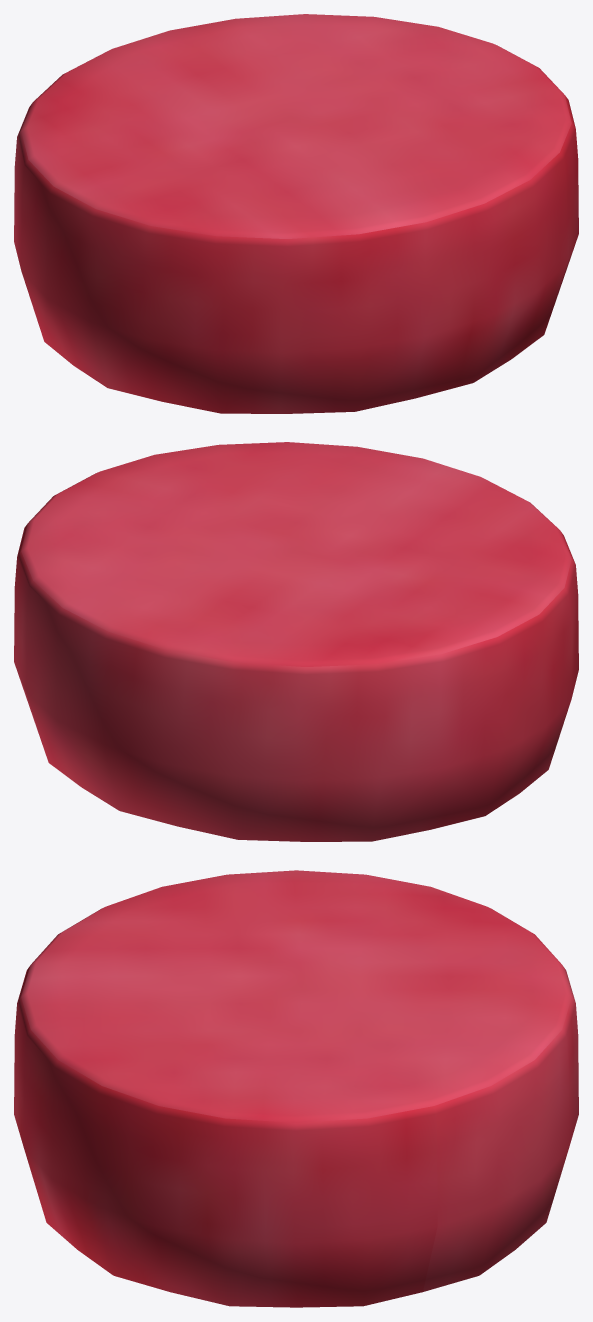
The model's file is bouton.fbx.
The picture shows the model from 3 angles, top to bottom: view 1: azimuth 30°, elevation 25°; view 2: azimuth 150°, elevation 25°; view 3: azimuth 270°, elevation 25°; orthographic projection. The views are drawn at different scales.
Visible parts, largest first — view 1: polySurface3; view 2: polySurface3; view 3: polySurface3.
Part boxes in pixels (<box>): polySurface3: <box>14,14,578,413</box>; polySurface3: <box>14,442,578,841</box>; polySurface3: <box>14,870,578,1307</box>.
Size of the model in its own units: 1.42 by 0.5858 by 1.32.
